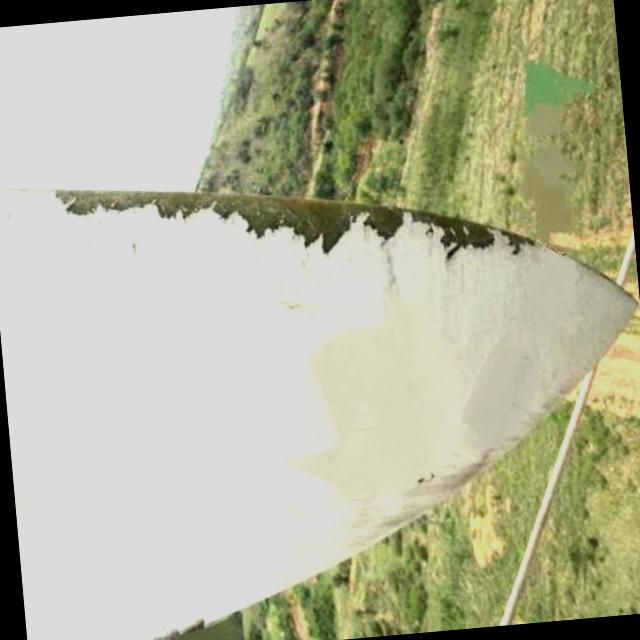corrosion: (60, 170, 294, 256)
surface_peeling: (300, 184, 535, 268)
